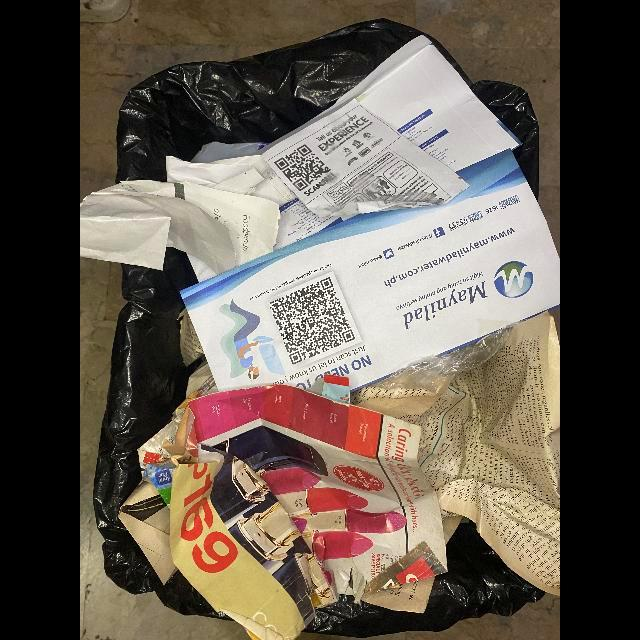paper: (180, 148, 560, 437), (161, 385, 447, 640), (347, 310, 560, 596), (335, 35, 523, 172), (261, 97, 471, 219), (80, 181, 280, 276)
plastic_bag: (370, 319, 519, 394)
